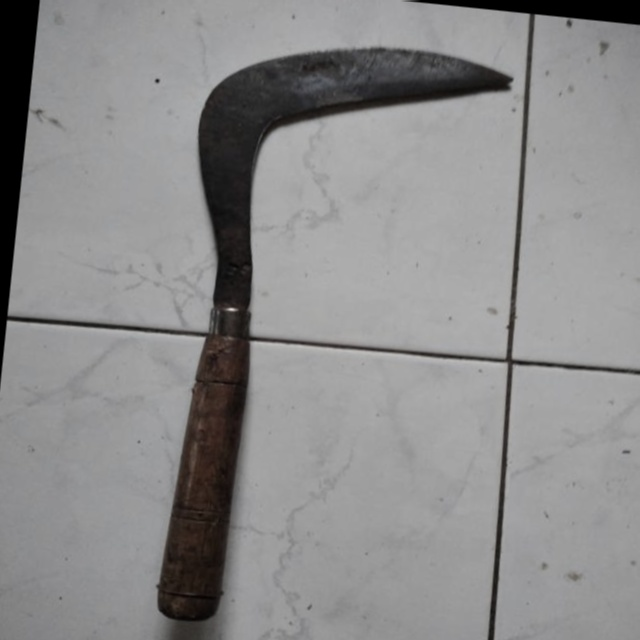Sharp-Object: (144, 0, 523, 640)
